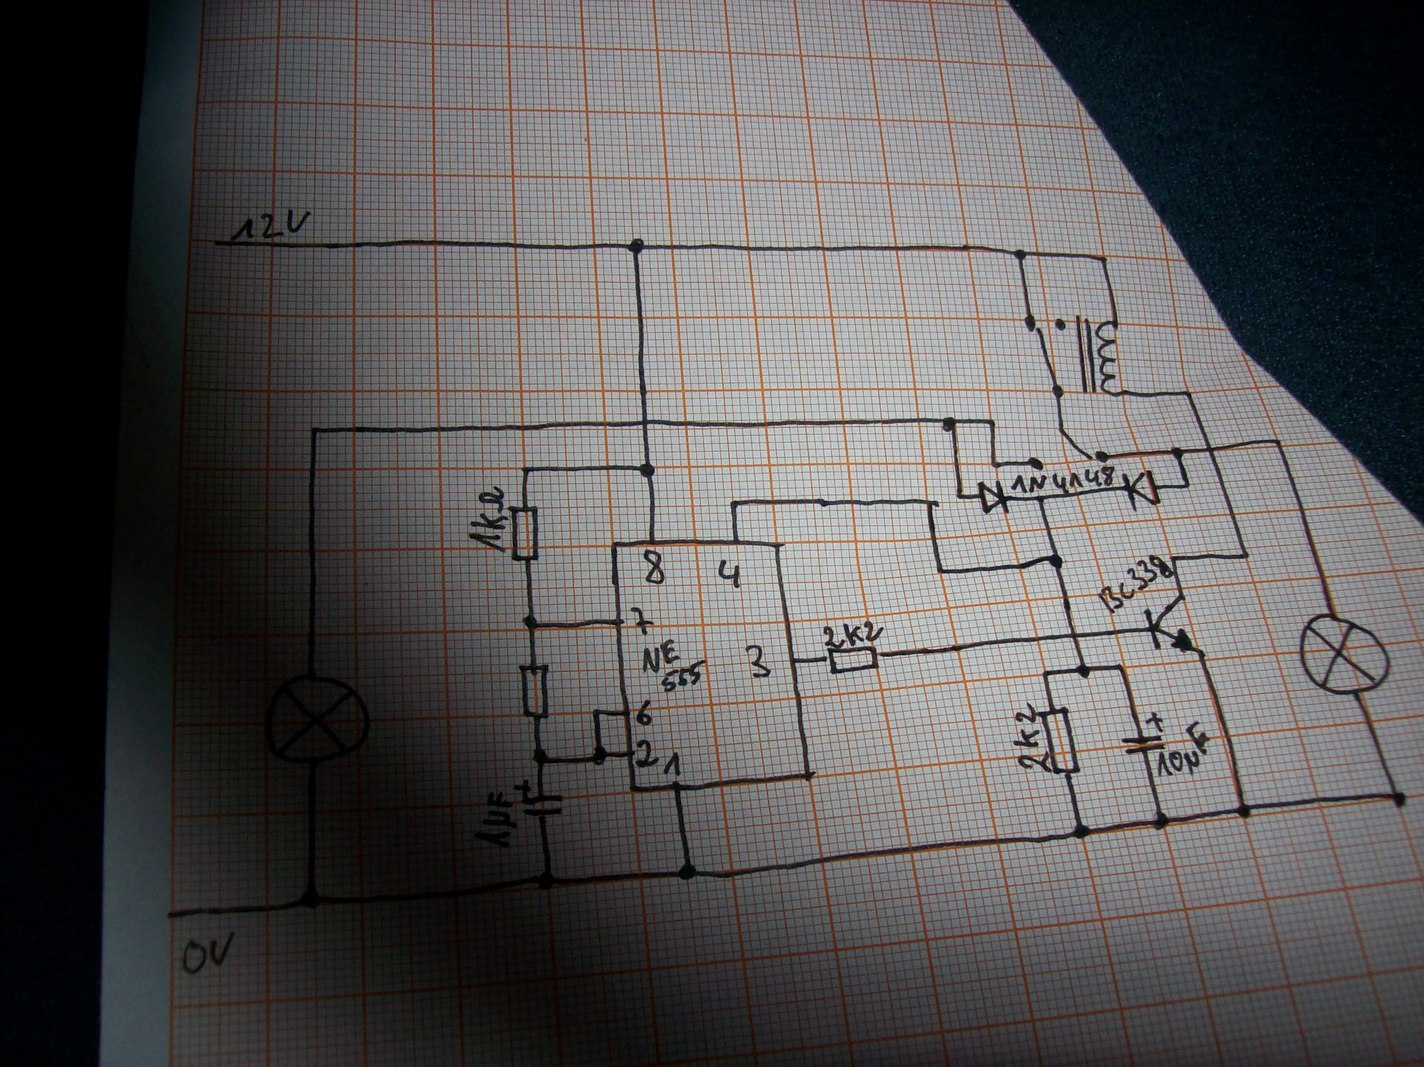capacitor.polarized: (512, 777, 566, 818), (1121, 711, 1166, 757)
crossover: (1065, 629, 1082, 641), (637, 417, 653, 429), (1203, 444, 1219, 455)
diode: (1121, 468, 1162, 512), (976, 477, 1011, 516)
integrated_cricuit.ne555: (609, 536, 816, 794)
junction: (297, 887, 323, 912), (534, 869, 557, 892), (676, 862, 699, 883), (1388, 789, 1408, 810), (1151, 810, 1171, 832), (530, 746, 550, 767), (589, 745, 609, 766), (637, 460, 658, 479), (1048, 551, 1067, 570), (627, 236, 646, 256), (1072, 822, 1090, 841), (940, 416, 959, 434), (1235, 802, 1253, 819), (1074, 664, 1092, 680), (522, 614, 540, 631), (1169, 444, 1185, 460), (1013, 247, 1029, 263), (924, 497, 943, 510), (1179, 477, 1195, 492), (727, 497, 745, 510), (933, 562, 947, 578), (984, 415, 999, 428), (308, 423, 322, 438), (1033, 492, 1048, 505), (953, 489, 967, 503), (1039, 667, 1052, 680), (1272, 435, 1285, 448), (1113, 660, 1127, 672), (520, 463, 533, 475), (1182, 388, 1195, 400), (1239, 549, 1253, 562), (1098, 253, 1111, 266), (592, 706, 604, 718), (1167, 553, 1179, 565), (988, 458, 1000, 470)
lamp: (266, 672, 372, 770), (1299, 612, 1392, 696)
relay: (1024, 314, 1128, 399)
resistor: (1036, 706, 1082, 776), (518, 664, 552, 720), (508, 505, 541, 562), (823, 644, 882, 675)
switch: (1027, 429, 1109, 471)
terminal: (210, 236, 226, 253), (162, 907, 178, 924)
text: (1097, 555, 1173, 613), (641, 638, 707, 693), (1011, 466, 1115, 494), (1157, 721, 1210, 776), (1013, 702, 1051, 774), (468, 485, 509, 554), (474, 789, 519, 850), (230, 208, 311, 241), (182, 931, 236, 975), (823, 620, 884, 649), (745, 644, 772, 679), (642, 548, 666, 586), (629, 605, 655, 635), (716, 558, 742, 590), (634, 739, 660, 768), (662, 750, 682, 777), (635, 699, 654, 726)
transistor: (1143, 594, 1206, 655)
